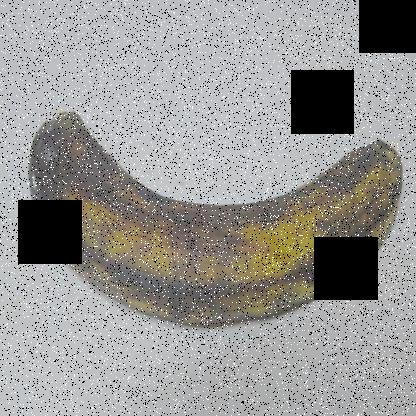overripe: (23, 87, 414, 352)
rotten: (20, 106, 92, 214)
